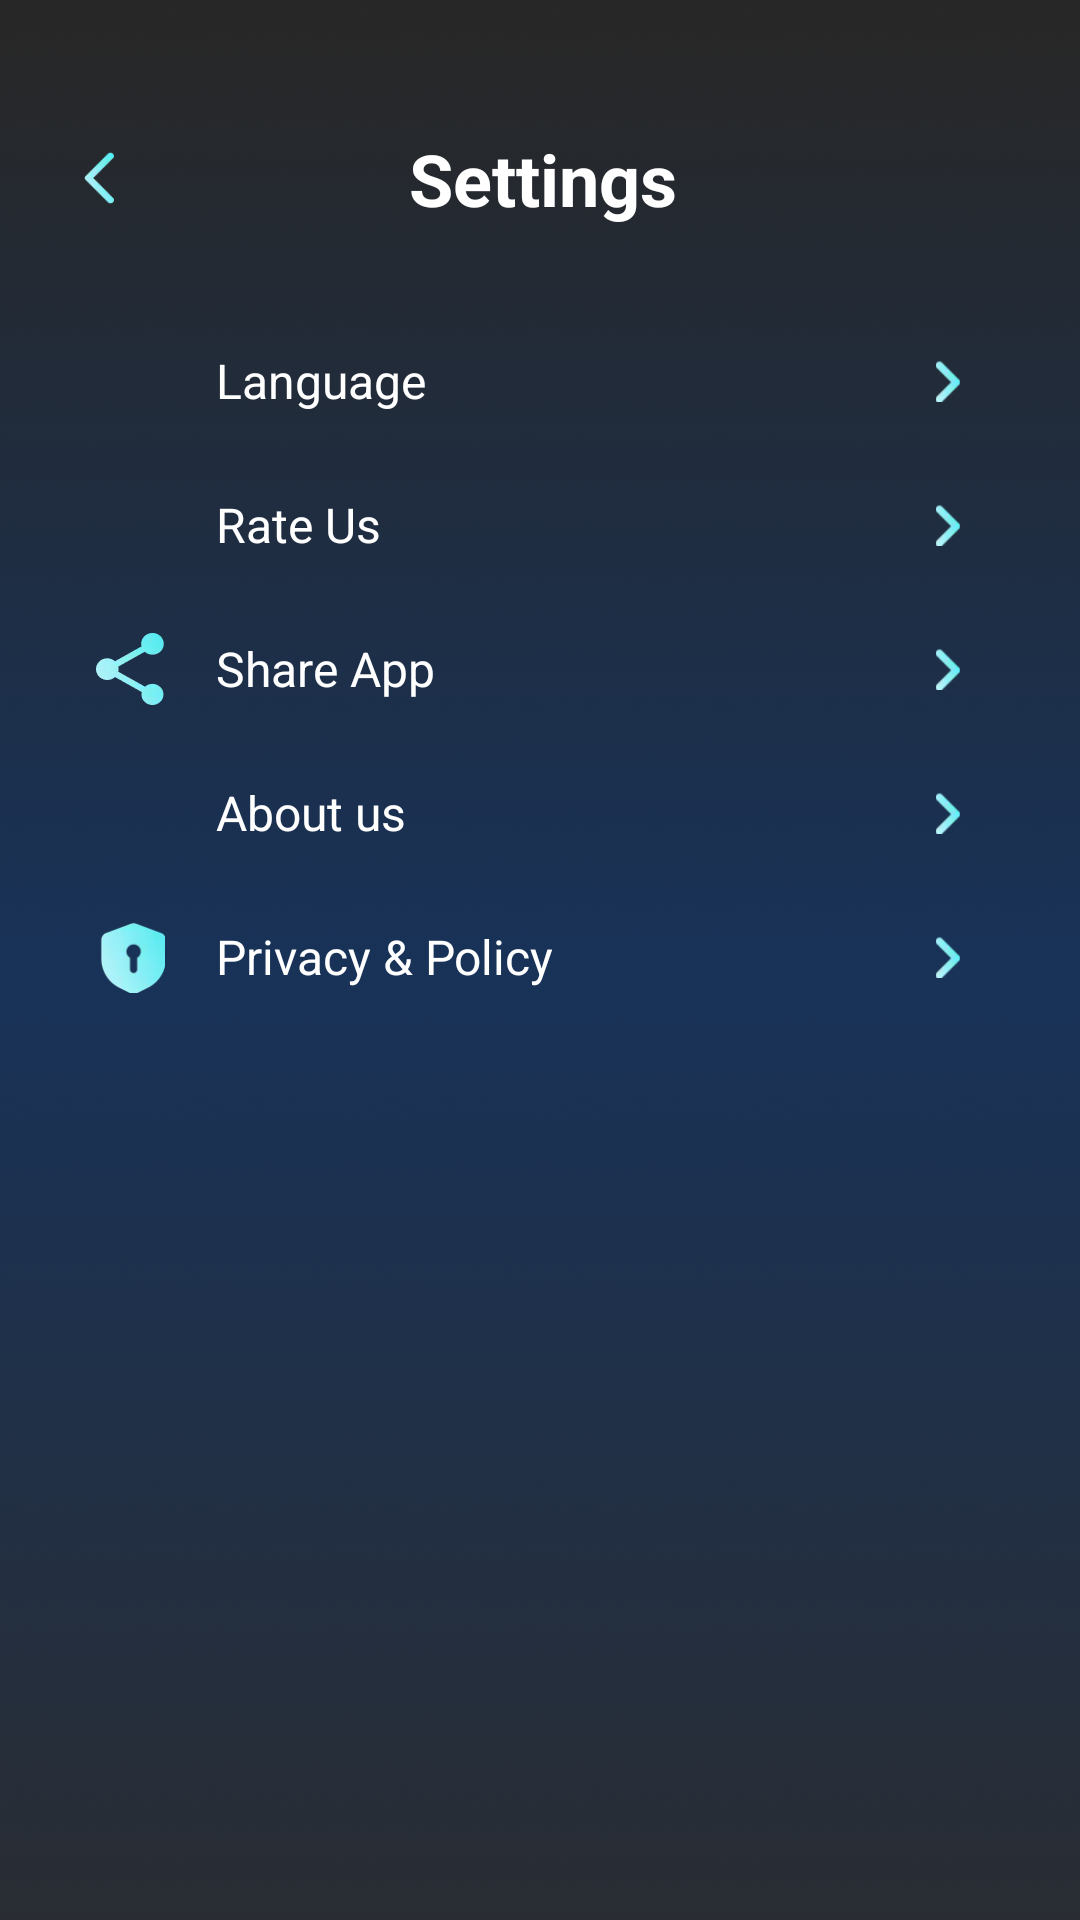

Where icons sit on this 1080x1920 app screen, as (x1, y1, x2, y2):
icback: (84, 152, 114, 204)
icshare: (96, 633, 164, 705)
next: (936, 361, 960, 402), (936, 505, 960, 546), (936, 649, 960, 690), (936, 793, 960, 834), (936, 937, 960, 978)
